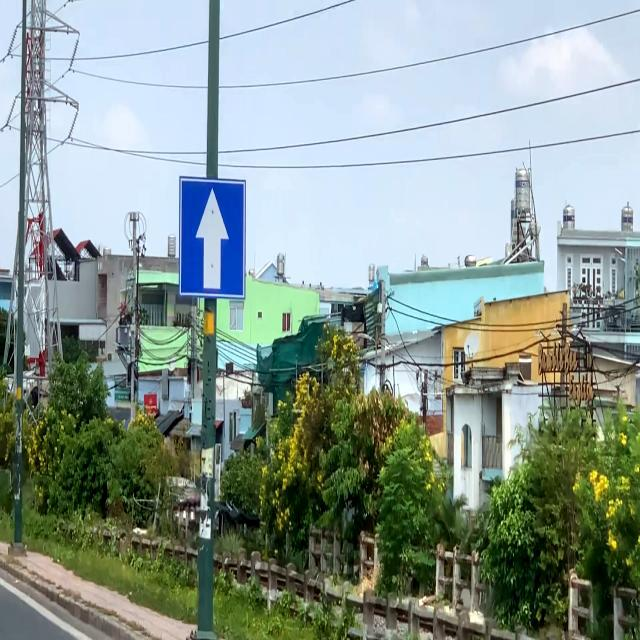Duong mot chieu: (180, 172, 244, 303)
